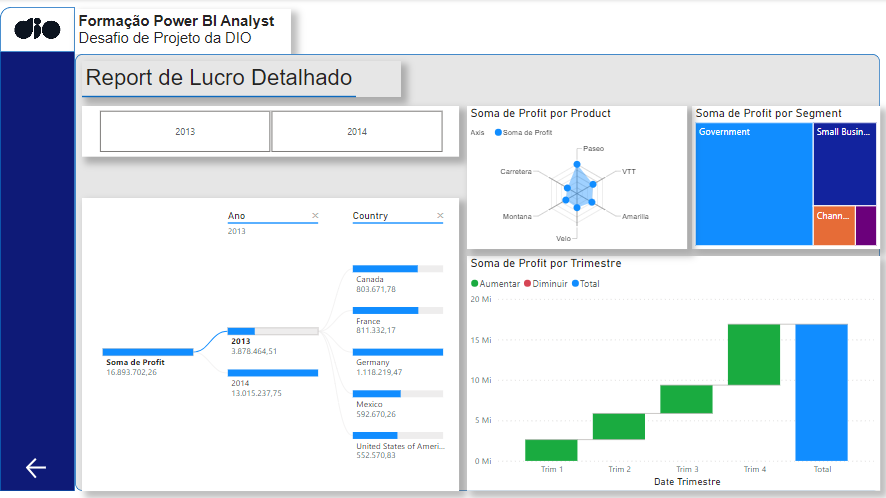

The page's visual inventory and layout, read from the dashboard file:
{"tool":"powerbi","page":{"name":"Página 2","canvas":[1280,720],"ordinal":1},"visuals":[{"type":"shape","box":[0,11.8,107.5,697.1],"z":0},{"type":"shape","box":[0,11.5,108,64.8],"z":1000},{"type":"image","box":[15.8,14.4,76.3,56.2],"z":2000},{"type":"shape","box":[108,11.5,1159.2,64.8],"z":3000},{"type":"textbox","box":[108,14.4,311,64.8],"z":4000},{"type":"shape","box":[108,79.2,1159.2,629.3],"z":5000},{"type":"actionButton","box":[33.1,655.2,38.9,40.3],"z":6000},{"type":"textbox","box":[118.1,89.3,459.4,51.8],"z":7000},{"type":"shape","box":[118.1,126.7,394.6,27.4],"z":8000},{"type":"decompositionTreeVisual","fields":{"Analyze":["Sum(financials.Profit)"],"ExplainBy":["financials.Date.Variation.Hierarquia de datas.Ano","financials.Country"]},"box":[118.1,286.6,542.9,421.9],"z":9000},{"type":"slicer","fields":{"Values":["financials.Date.Variation.Hierarquia de datas.Ano"]},"box":[118.1,154.1,542.9,73.4],"z":10000},{"type":"treemap","fields":{"Values":["Sum(financials.Profit)"],"Group":["financials.Segment"]},"box":[996.5,154.1,270.7,205.9],"z":11000},{"type":"waterfallChart","fields":{"Y":["Sum(financials.Profit)"],"Category":["financials.Date.Variation.Hierarquia de datas.Trimestre"]},"box":[672.5,370.1,594.7,338.4],"z":12000},{"type":"RadarChart1446119667547","fields":{"Category":["financials.Product"],"Y":["Sum(financials.Profit)"]},"box":[672.5,154.1,316.8,205.9],"z":13000}]}

Visuals, with their boxes on the page's 1280x720 design canvas (x1, y1, x2, y2). These are canvas units, not pixel positions in the 886x498 screenshot, which may show the page scaled, cropped or inside an application window:
shape: region(0, 12, 108, 709)
shape: region(0, 12, 108, 76)
image: region(16, 14, 92, 71)
shape: region(108, 12, 1267, 76)
textbox: region(108, 14, 419, 79)
shape: region(108, 79, 1267, 708)
actionButton: region(33, 655, 72, 696)
textbox: region(118, 89, 578, 141)
shape: region(118, 127, 513, 154)
decompositionTreeVisual - Sum(financials.Profit) x financials.Date.Variation.Hierarquia de datas.Ano: region(118, 287, 661, 708)
slicer - financials.Date.Variation.Hierarquia de datas.Ano: region(118, 154, 661, 228)
treemap - Sum(financials.Profit) x financials.Segment: region(996, 154, 1267, 360)
waterfallChart - Sum(financials.Profit) x financials.Date.Variation.Hierarquia de datas.Trimestre: region(672, 370, 1267, 708)
RadarChart1446119667547 - financials.Product x Sum(financials.Profit): region(672, 154, 989, 360)
